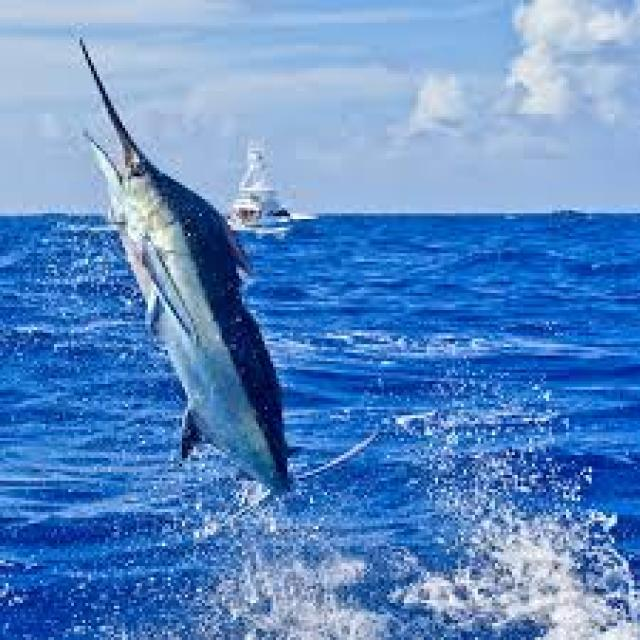Blue Marlin: (77, 34, 375, 526)
